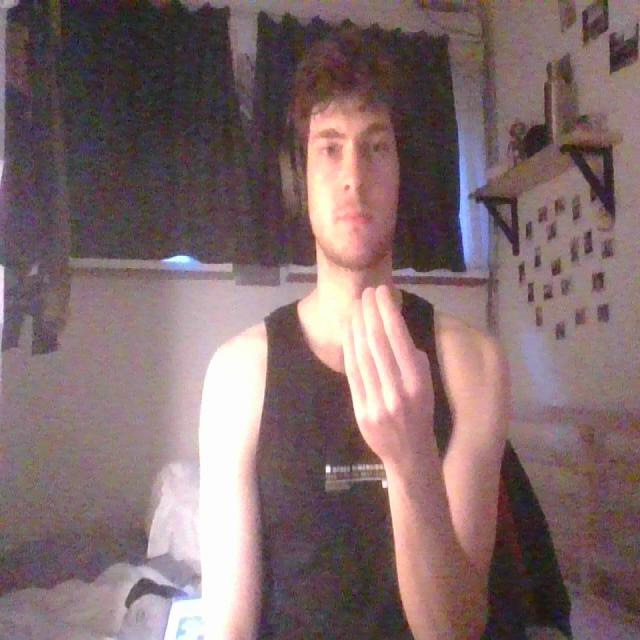forward: (330, 278, 442, 462)
